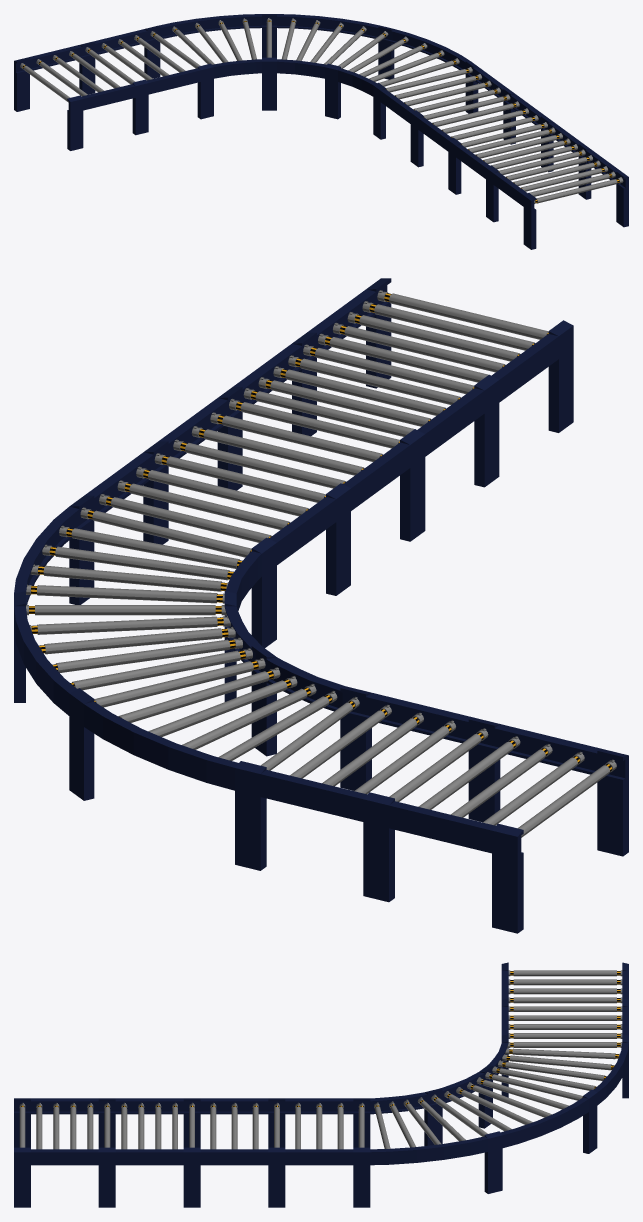
The model's file is conveyorBelt5.fbx.
3 renders of one model, top to bottom at view 1: azimuth 30°, elevation 25°; view 2: azimuth 150°, elevation 25°; view 3: azimuth 270°, elevation 25°, orthographic. The views are drawn at different scales.
Parts seen in each view (by area): view 1: Cube.011, Cube, Cube.012, Cube.001, Cube.003, Cube.005, Cube.006, Cube.002, Cube.007, Cube.008, Cube.009, Cube.010 (+25 smaller); view 2: Cube.011, Cube, Cube.012, Cube.001, Cube.005, Cube.002, Cube.006, Bar.039, Bar.041, Bar.040, Bar.042, Bar.038 (+41 smaller); view 3: Cube.011, Cube.012, Cube.007, Cube.003, Cube.006, Cube.002, Cube.001, Bar.005, Bar.006, Bar.007, Bar.008, Cube.005 (+20 smaller).
Part boxes in pixels (left/top/right/bottom): Cube.011: left=373, top=61, right=628, bottom=249; Cube: left=14, top=26, right=213, bottom=150; Cube.012: left=380, top=67, right=620, bottom=206; Cube.001: left=27, top=29, right=200, bottom=110; Cube.003: left=325, top=26, right=394, bottom=119; Cube.005: left=157, top=14, right=261, bottom=38; Cube.006: left=277, top=14, right=380, bottom=38; Cube.002: left=262, top=14, right=276, bottom=110; Cube.007: left=391, top=29, right=470, bottom=69; Cube.008: left=212, top=59, right=261, bottom=78; Cube.009: left=277, top=59, right=326, bottom=78; Cube.010: left=338, top=68, right=376, bottom=96; Cube.011: left=69, top=278, right=573, bottom=647; Cube: left=235, top=686, right=628, bottom=933; Cube.012: left=84, top=289, right=558, bottom=564; Cube.001: left=260, top=693, right=602, bottom=853; Cube.005: left=84, top=701, right=238, bottom=790; Cube.002: left=69, top=646, right=276, bottom=800; Cube.006: left=14, top=606, right=76, bottom=715; Bar.039: left=29, top=615, right=230, bottom=634; Bar.041: left=26, top=584, right=224, bottom=603; Bar.040: left=26, top=605, right=226, bottom=615; Bar.042: left=30, top=564, right=228, bottom=591; Bar.038: left=39, top=626, right=235, bottom=654; Cube.011: left=14, top=1098, right=370, bottom=1207; Cube.012: left=31, top=1098, right=353, bottom=1165; Cube.007: left=370, top=1136, right=487, bottom=1165; Cube.003: left=424, top=1088, right=502, bottom=1193; Cube.006: left=500, top=1097, right=588, bottom=1147; Cube.002: left=478, top=1065, right=597, bottom=1153; Cube.001: left=501, top=971, right=628, bottom=1035; Bar.005: left=508, top=997, right=622, bottom=1003; Bar.006: left=508, top=988, right=622, bottom=994; Bar.007: left=508, top=979, right=622, bottom=985; Bar.008: left=508, top=970, right=622, bottom=976; Cube.005: left=593, top=1043, right=628, bottom=1105.
Size of the model in its own units: 1312 by 185 by 1813.
